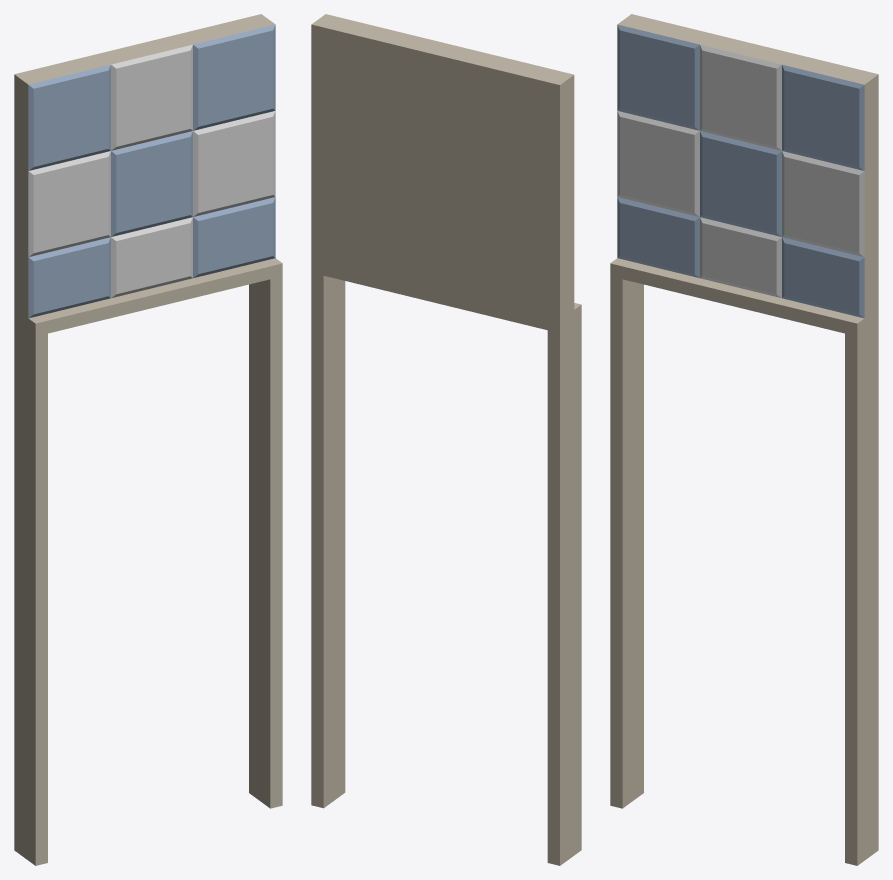
Rendered from Mesh_DoorHoleCeramic_I1.fbx.
3 views of the same model, side by side, from view 1: azimuth 30°, elevation 25°; view 2: azimuth 150°, elevation 25°; view 3: azimuth 330°, elevation 25° (orthographic).
Parts seen in each view (by area): view 1: Mesh_DoorHoleCeramic_I1; view 2: Mesh_DoorHoleCeramic_I1; view 3: Mesh_DoorHoleCeramic_I1.
Boxes of the visible parts, x1,y1,x2,y2 form: Mesh_DoorHoleCeramic_I1: (14, 14, 282, 865); Mesh_DoorHoleCeramic_I1: (311, 14, 581, 865); Mesh_DoorHoleCeramic_I1: (610, 14, 878, 865).
Size of the model in its own units: 1 by 3 by 0.15.
